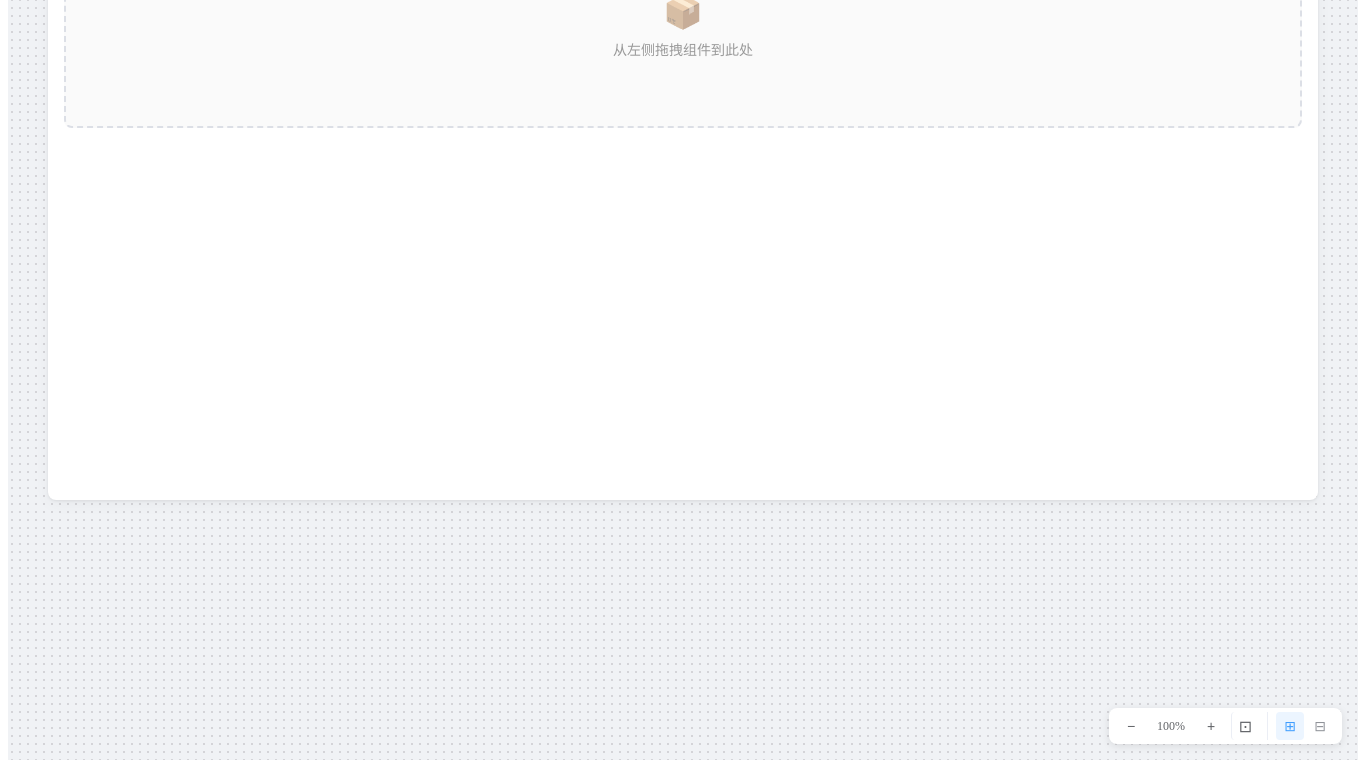
LubanDesigner V3 新功能 › 内置工具栏与缩放 › 点击百分比标签重置为 100%
(page scrolled)
Click the button with class "luban-designer__zoom-btn" showing "+" at coordinates (1211, 726), box [1197,712,1225,740]
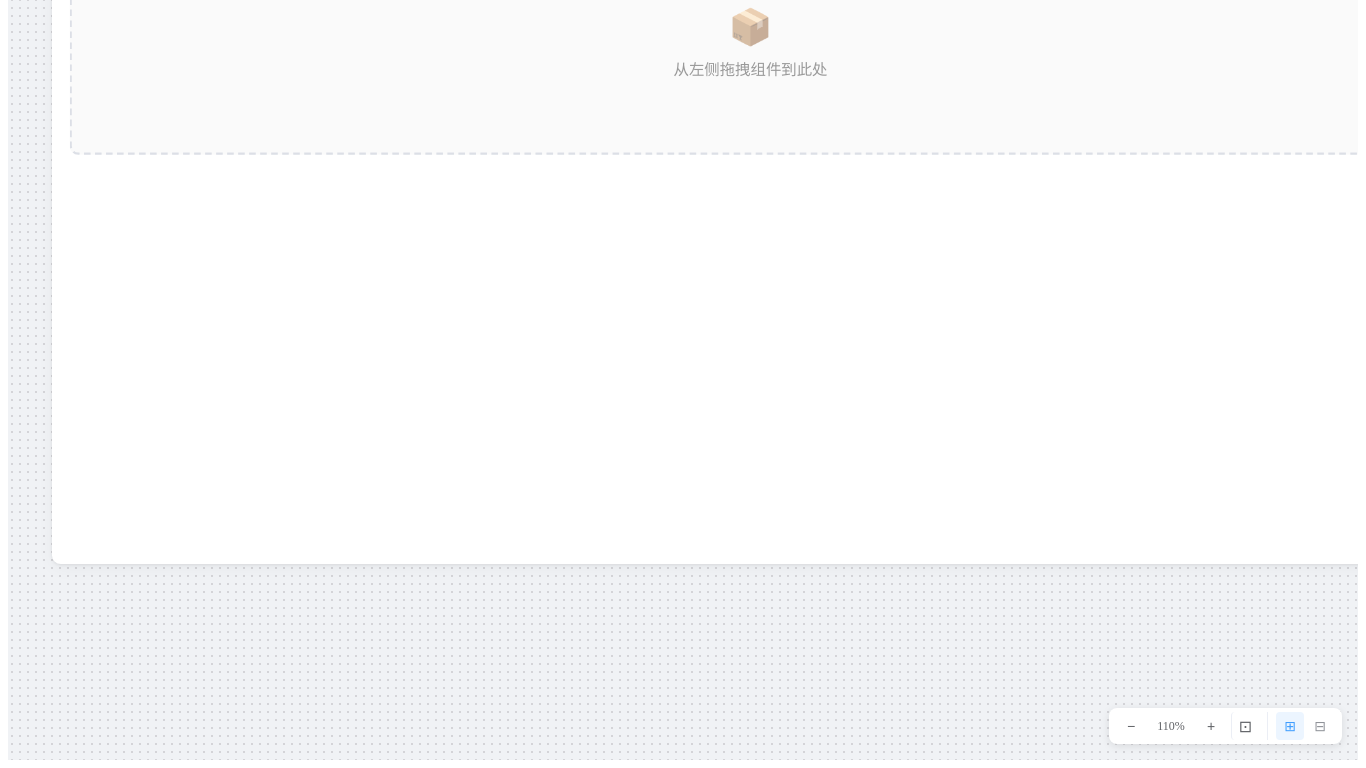
Click the button with class "luban-designer__zoom-btn" showing "+" at coordinates (1211, 726), box [1197,712,1225,740]
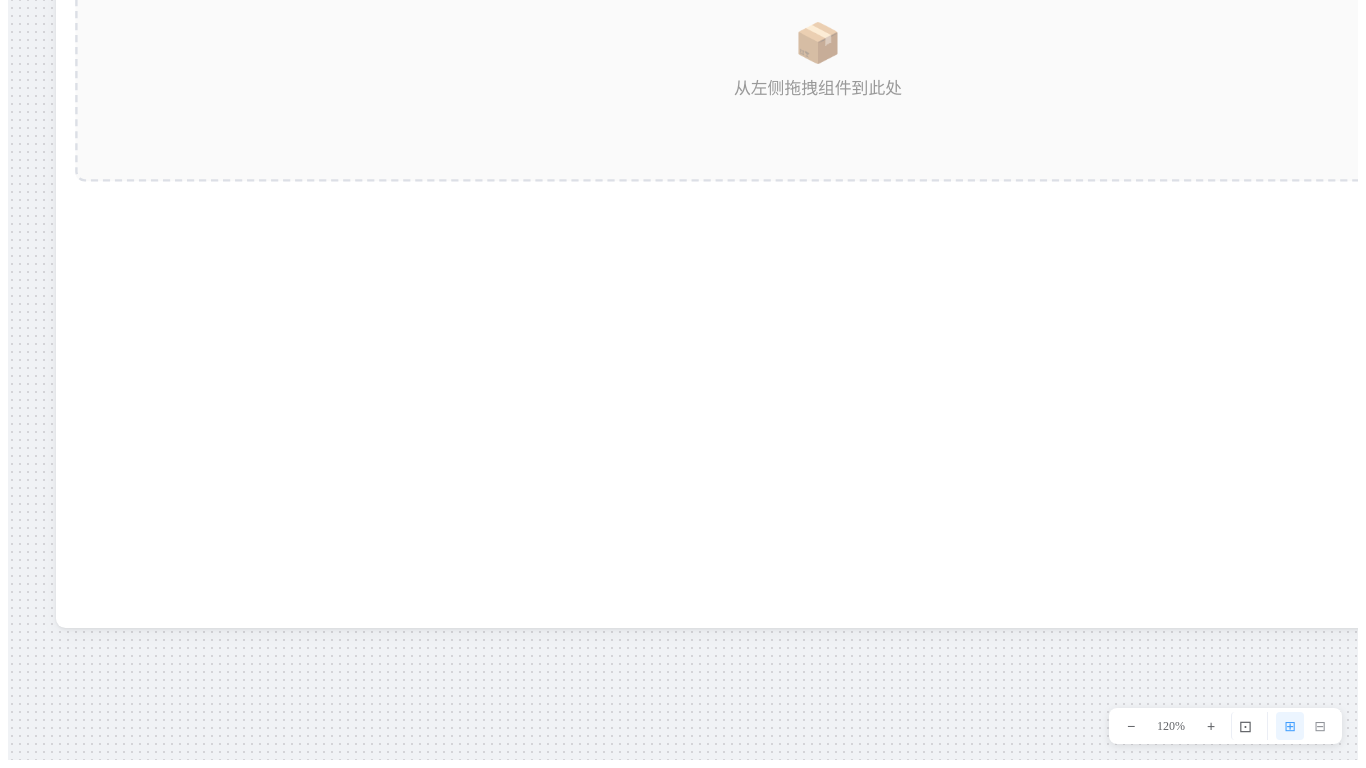
Check: the text with class "luban-designer__zoom-label" reads "120%"
Click the text with class "luban-designer__zoom-label" at coordinates (1171, 726), box [1157,718,1185,732]
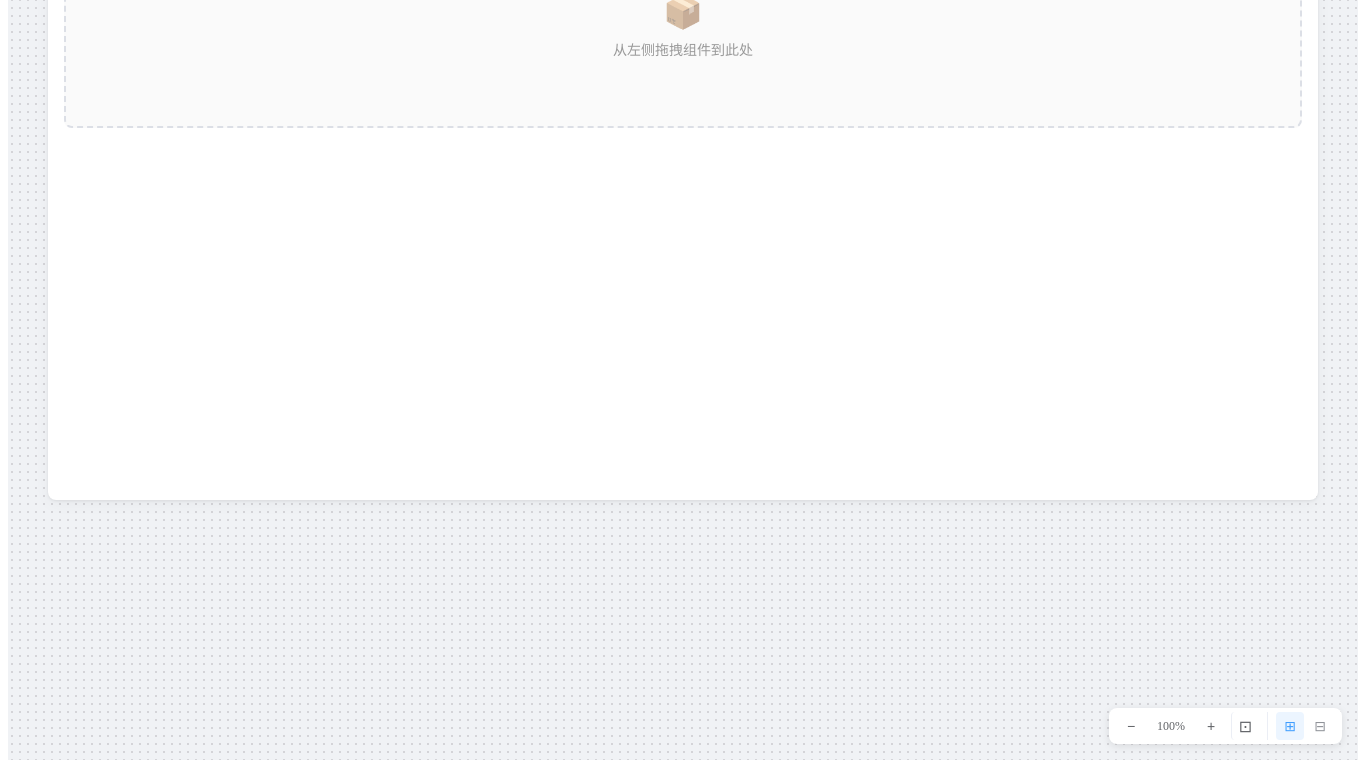
Check: the text with class "luban-designer__zoom-label" reads "100%", box [1157,718,1185,732]
